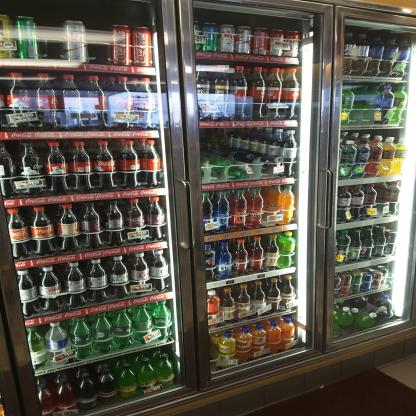Void: (203, 132, 272, 178), (35, 15, 62, 58), (88, 18, 107, 63)
